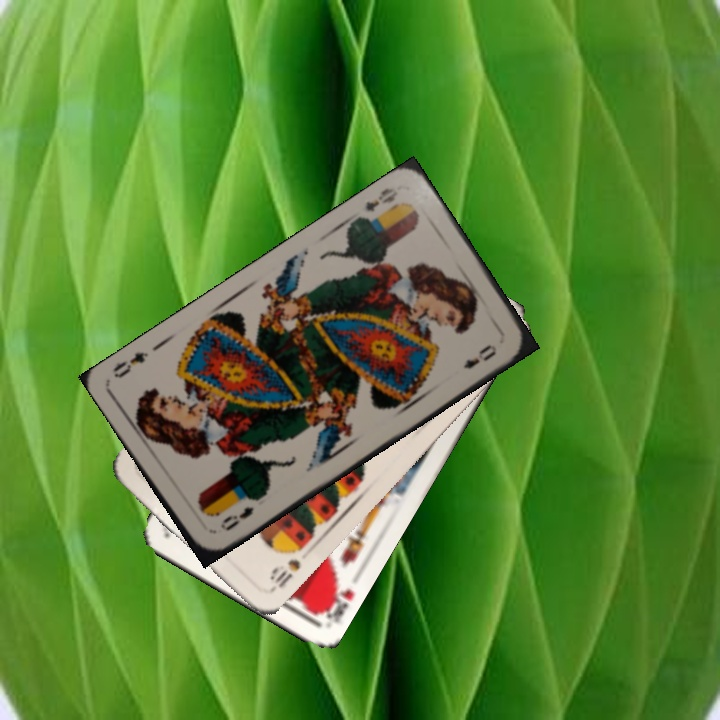EO: (216, 502, 257, 534), (361, 183, 400, 215)
HK: (314, 574, 357, 626)
S10: (265, 555, 303, 591)
